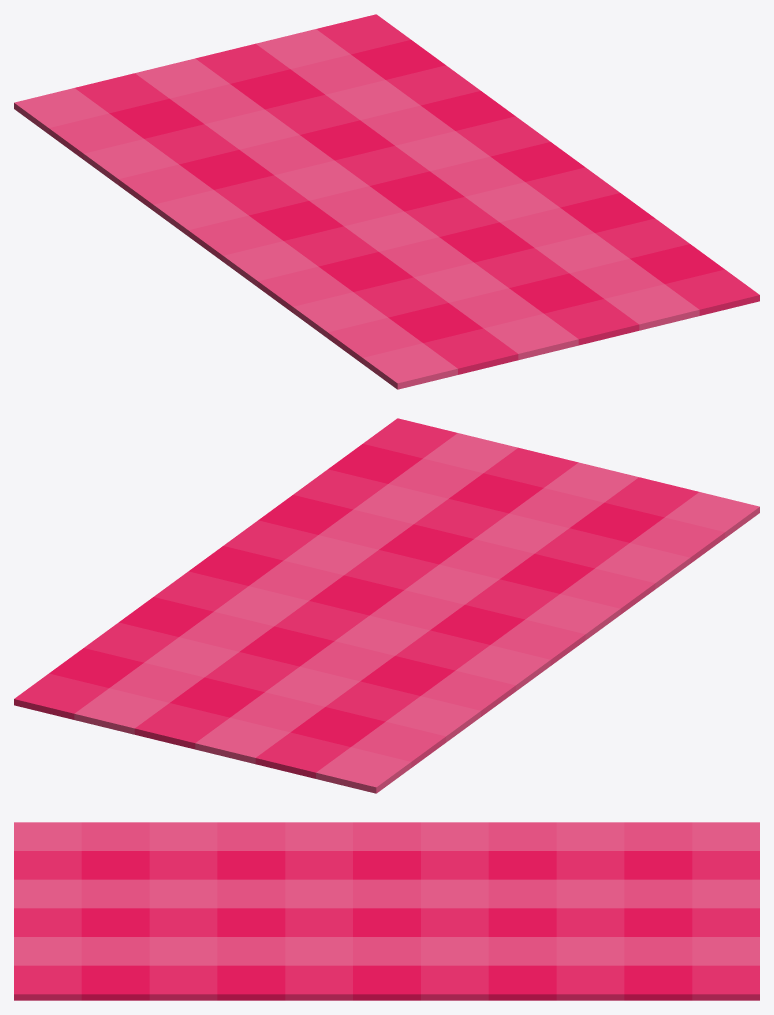
File: Field.fbx
3 views of the same model, one above another, from view 1: azimuth 30°, elevation 25°; view 2: azimuth 150°, elevation 25°; view 3: azimuth 270°, elevation 25° (orthographic). The views are drawn at different scales.
Parts seen in each view (by area): view 1: porch_floorCenter (×66); view 2: porch_floorCenter (×66); view 3: porch_floorCenter (×66).
Part boxes in pixels (bbox=[...]): porch_floorCenter (×66): bbox=[14, 14, 759, 389]; porch_floorCenter (×66): bbox=[14, 418, 759, 793]; porch_floorCenter (×66): bbox=[14, 822, 759, 1000].
Bounding box in the file's own units: 60 × 1 × 110.
